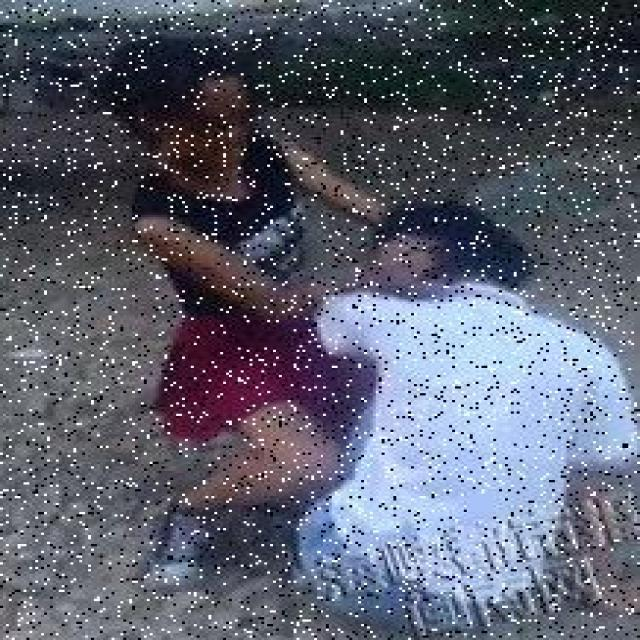fall: (344, 224, 610, 610)
